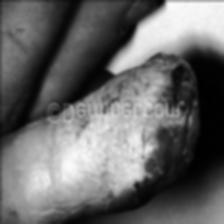Potentially Malignant Skin Tumors: (139, 122, 184, 188), (173, 72, 199, 110)
